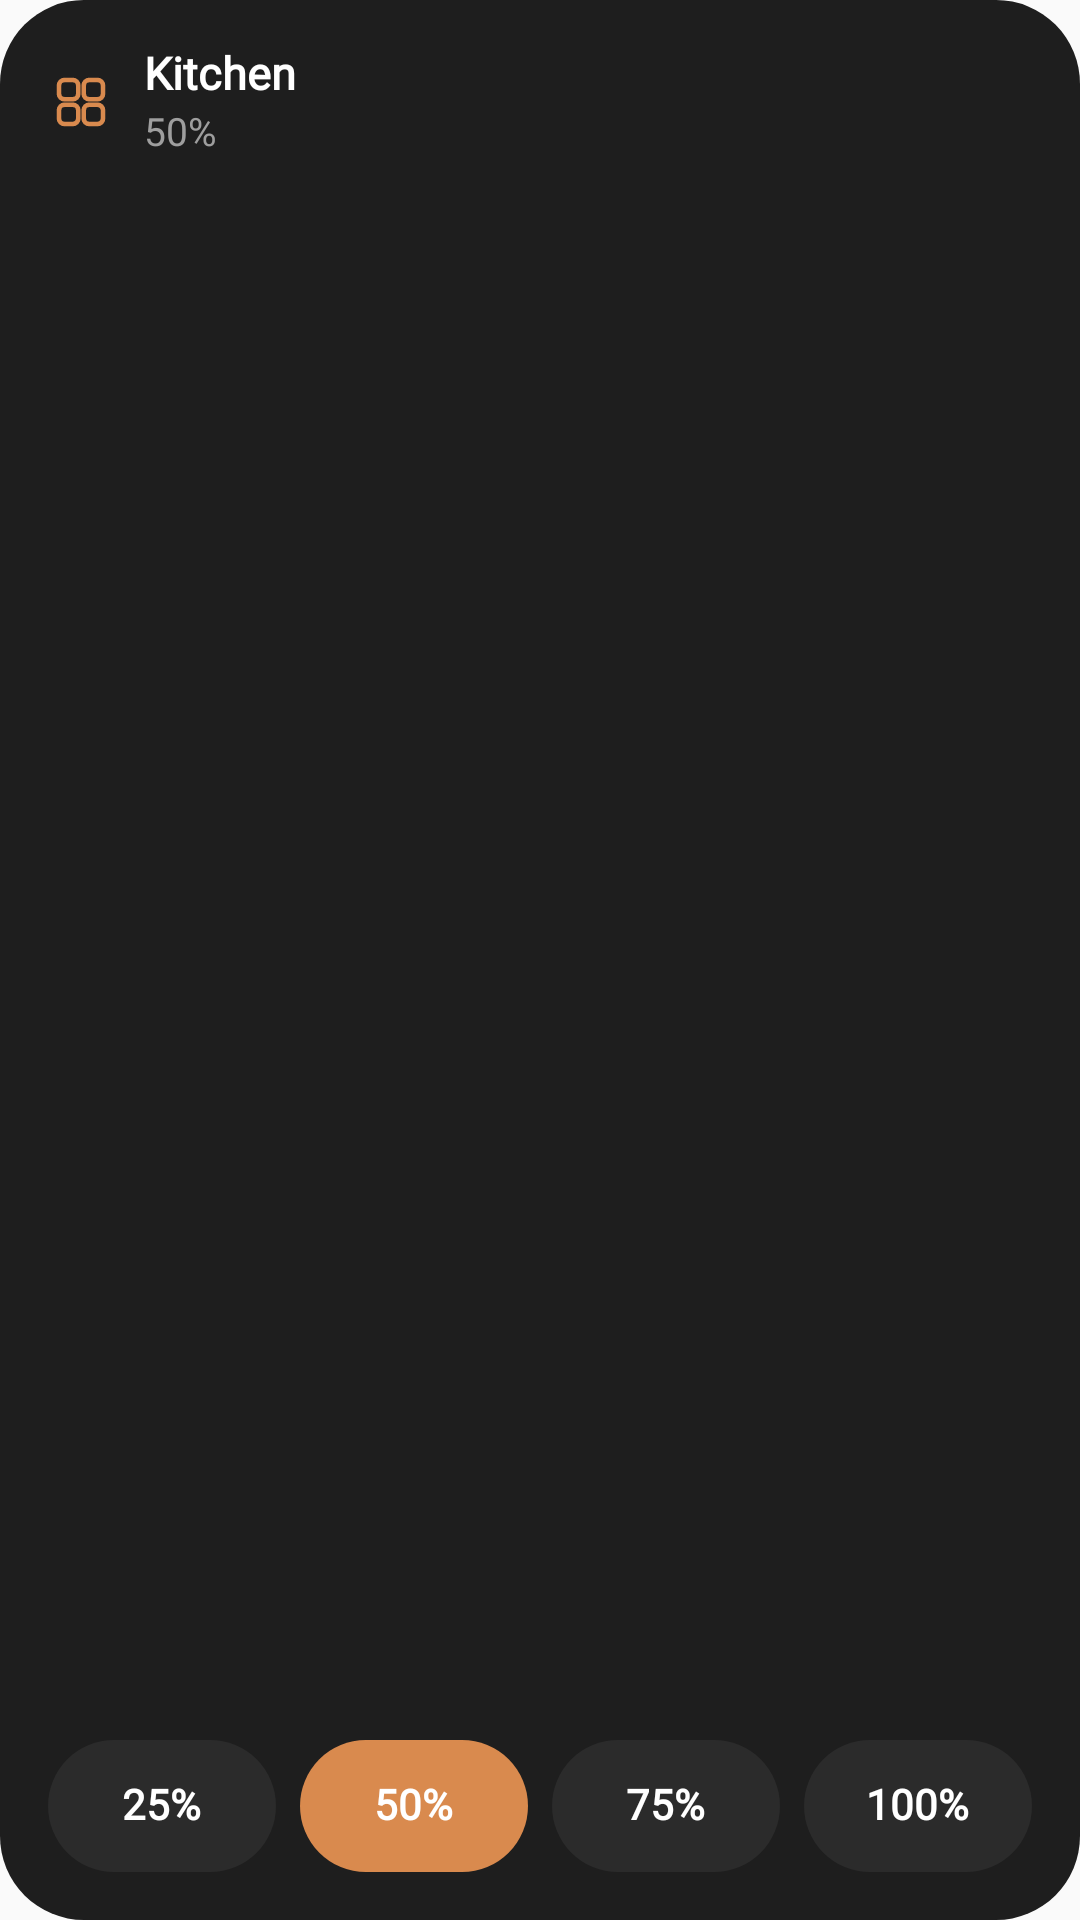

Screen size 1080w x 1920h. Icon name, then its center in pixels as (x=x, y=y):
wi grid: (x=81, y=102)
